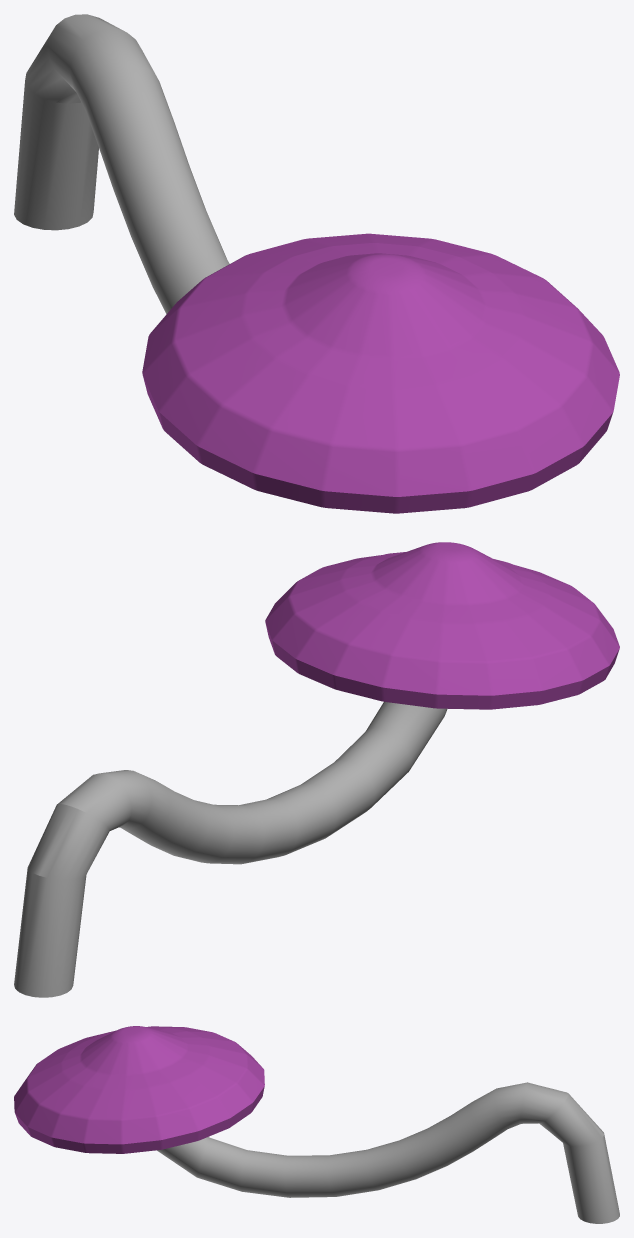
The model's file is mushroom flat 3.fbx.
The picture shows the model from 3 angles, top to bottom: view 1: azimuth 30°, elevation 25°; view 2: azimuth 150°, elevation 25°; view 3: azimuth 270°, elevation 25°; orthographic projection. The views are drawn at different scales.
Visible parts, largest first — view 1: mushroom_flat_3; view 2: mushroom_flat_3; view 3: mushroom_flat_3.
Part boxes in pixels (bbox=[...]): mushroom_flat_3: bbox=[14, 14, 619, 513]; mushroom_flat_3: bbox=[14, 542, 619, 997]; mushroom_flat_3: bbox=[14, 1026, 619, 1223].
Bounding box in the file's own units: 0.2139 × 0.5136 × 0.1472.
